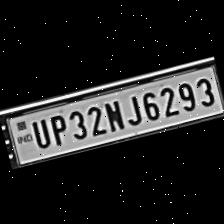2: (154, 80, 180, 118), (81, 99, 107, 136)
3: (190, 72, 216, 108), (62, 104, 87, 141)
6: (136, 86, 160, 122)
9: (172, 77, 197, 113)
J: (118, 90, 142, 127)
N: (98, 95, 124, 133)
P: (42, 108, 68, 146)
U: (25, 114, 50, 149)
